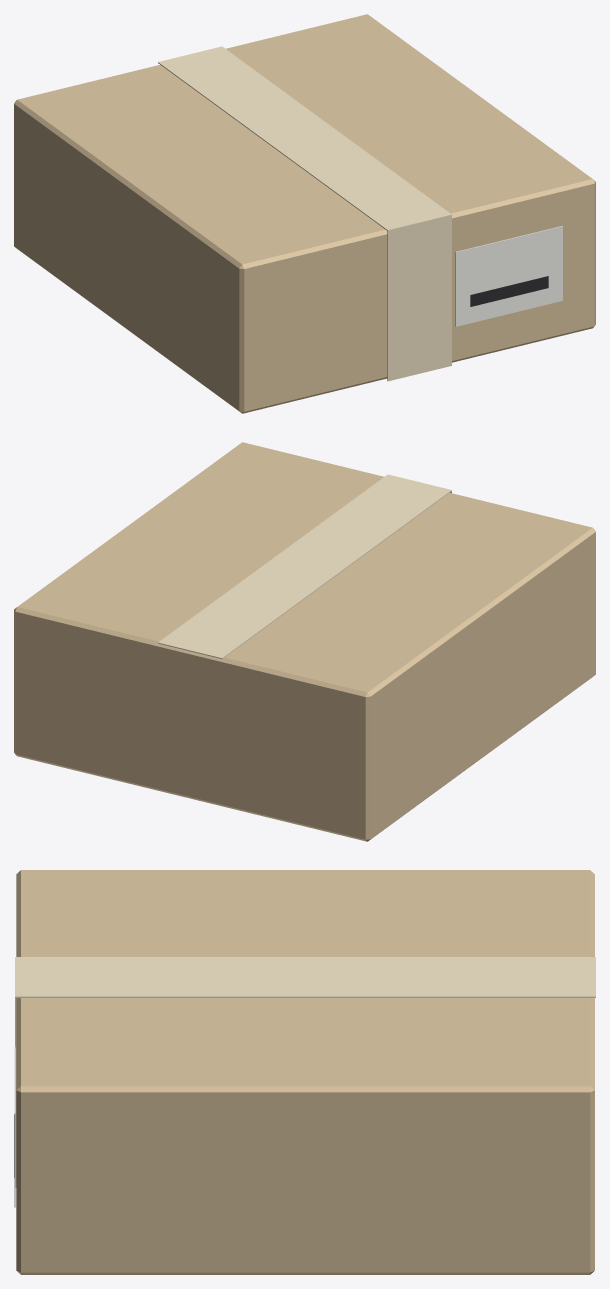
File: carton_2u.fbx
The picture shows the model from 3 angles, top to bottom: view 1: azimuth 30°, elevation 25°; view 2: azimuth 150°, elevation 25°; view 3: azimuth 270°, elevation 25°; orthographic projection. The views are drawn at different scales.
Visible parts, largest first — view 1: Carton; view 2: Carton; view 3: Carton.
Boxes of the visible parts, <box> form: Carton: <box>14,14,595,413</box>; Carton: <box>14,442,595,841</box>; Carton: <box>14,870,595,1274</box>.
Size of the model in its own units: 0.45 by 0.1822 by 0.503.
